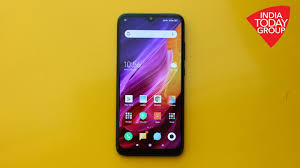asus: (113, 11, 186, 157)
